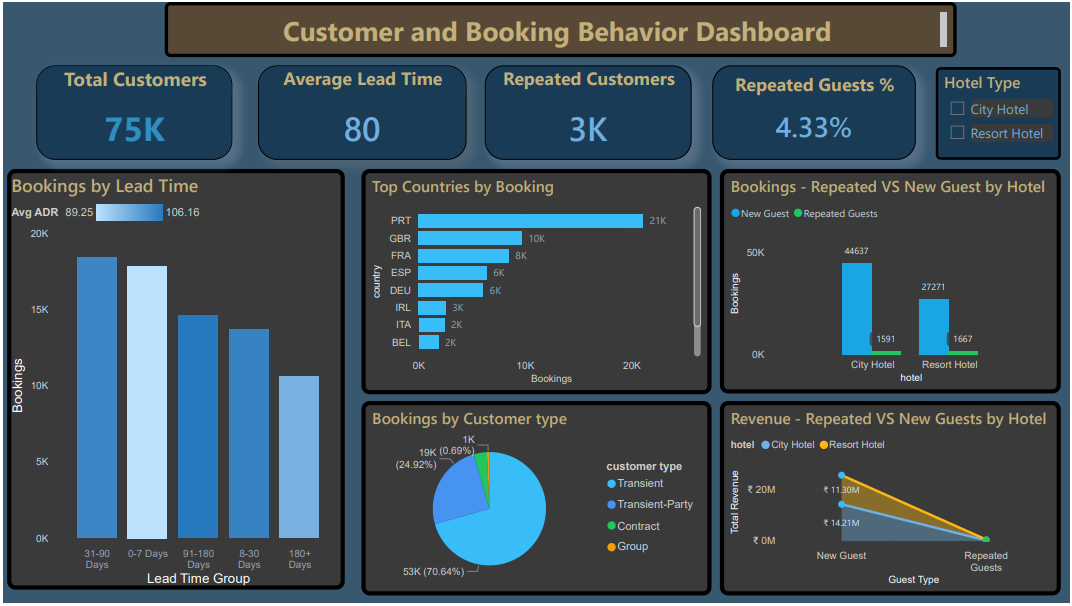

This screenshot's page, from the dashboard's own definition file:
{"tool":"powerbi","page":{"name":"Customer & Booking Behavior","canvas":[1280,720],"ordinal":1},"visuals":[{"type":"cardVisual","title":"Repeated Customers","fields":{"Data":["Sheet1.Repeated Guests"]},"box":[577.5,76.2,248.8,112.5],"z":0},{"type":"cardVisual","title":"Average Lead Time","fields":{"Data":["Sheet1.Average Lead time"]},"box":[306.2,76.2,250,112.5],"z":1000},{"type":"cardVisual","title":"Repeated Guests %","fields":{"Data":["Sheet1.Repeat %"]},"box":[851.2,76.2,243.8,112.5],"z":2000},{"type":"clusteredColumnChart","title":"Bookings by Lead Time","fields":{"Category":["Sheet1.Lead Time Group"],"Y":["Sheet1.countrows"]},"box":[5,200,405,503.8],"z":3000},{"type":"stackedAreaChart","title":"Revenue - Repeated VS New Guests by Hotel","fields":{"Category":["Sheet1.Repeated Guest"],"Y":["Sheet1.Total Revenue"],"Series":["Sheet1.hotel"]},"box":[860,477.5,408.8,233.8],"z":4000},{"type":"lineClusteredColumnComboChart","title":"Bookings - Repeated VS New Guest by Hotel","fields":{"Category":["Sheet1.hotel"],"Y":["Sheet1.Bookings"],"Series":["Sheet1.Repeated Guest"]},"box":[860,200,408.8,268.8],"z":5000},{"type":"textbox","box":[194.2,0,950,66.3],"z":6000},{"type":"pieChart","title":"Bookings by Customer type","fields":{"Category":["Sheet1.customer_type"],"Y":["Sheet1.Bookings"]},"box":[430,477.5,420,233.8],"z":7000},{"type":"barChart","title":"Top Countries by Booking","fields":{"Category":["Sheet1.country"],"Y":["Sheet1.Bookings"]},"box":[430,200,420,270],"z":8000},{"type":"slicer","title":"Hotel Type","fields":{"Values":["Sheet1.hotel"]},"box":[1118.8,77.5,150,111.2],"z":9000},{"type":"cardVisual","title":"Total Customers","fields":{"Data":["Sheet1.Total Customers"]},"box":[40.5,76.1,234.4,112.9],"z":10000}]}

Visuals, with their boxes in screenshot pixels (x1, y1, x2, y2), scaled from the page's 1280x720 canvas onto the 1072x606 screenshot:
"Repeated Customers" cardVisual: bbox=[484, 64, 692, 159]
"Average Lead Time" cardVisual: bbox=[256, 64, 466, 159]
"Repeated Guests %" cardVisual: bbox=[713, 64, 917, 159]
"Bookings by Lead Time" clusteredColumnChart: bbox=[4, 168, 343, 592]
"Revenue - Repeated VS New Guests by Hotel" stackedAreaChart: bbox=[720, 402, 1063, 599]
"Bookings - Repeated VS New Guest by Hotel" lineClusteredColumnComboChart: bbox=[720, 168, 1063, 395]
textbox: bbox=[163, 0, 958, 56]
"Bookings by Customer type" pieChart: bbox=[360, 402, 712, 599]
"Top Countries by Booking" barChart: bbox=[360, 168, 712, 396]
"Hotel Type" slicer: bbox=[937, 65, 1063, 159]
"Total Customers" cardVisual: bbox=[34, 64, 230, 159]
